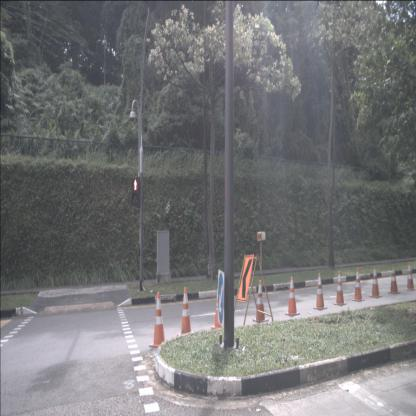movable_object-trafficcone: (149, 292, 166, 348), (176, 287, 194, 338), (253, 280, 269, 323), (285, 276, 301, 318), (312, 272, 328, 310), (210, 284, 222, 331), (334, 271, 348, 306), (369, 266, 383, 299), (352, 267, 365, 302), (388, 263, 401, 294), (404, 261, 416, 292)
